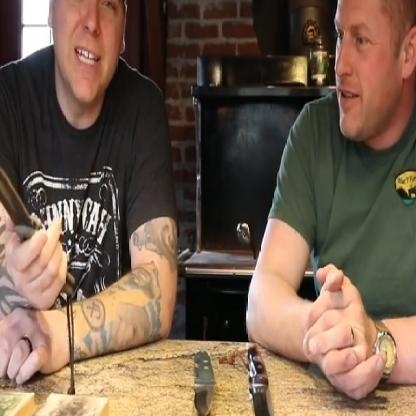knife: (0, 118, 71, 289)
